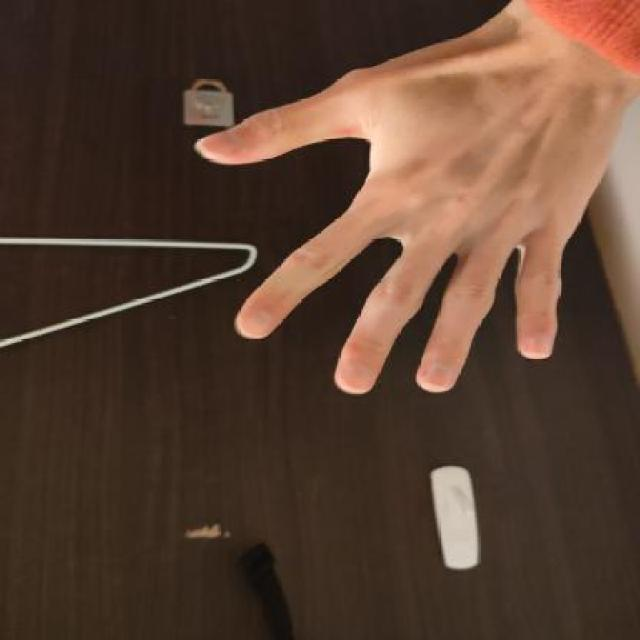bare_hand: (176, 2, 638, 420)
